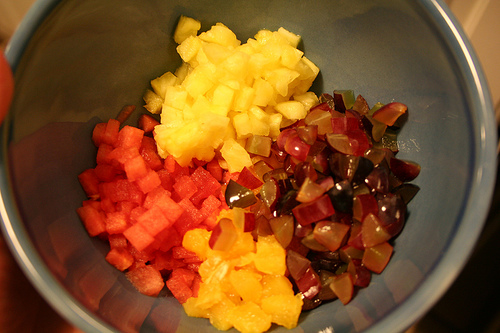pineapple: (144, 16, 321, 172)
